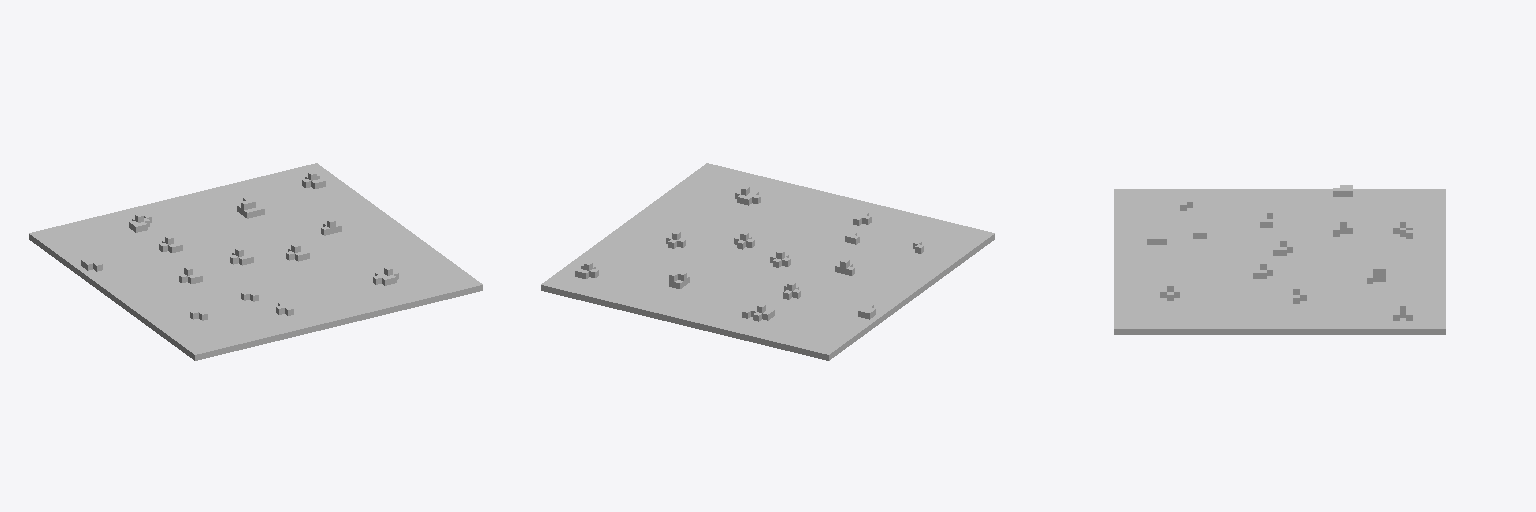
Rendered from Ground tile.obj.
3 renders of one model, left to right at view 1: azimuth 30°, elevation 25°; view 2: azimuth 150°, elevation 25°; view 3: azimuth 270°, elevation 25°, orthographic.
Visible parts, largest first — view 1: object 1; view 2: object 1; view 3: object 1.
Part boxes in pixels (left/top/right/bottom): object 1: left=29, top=163, right=482, bottom=360; object 1: left=541, top=163, right=994, bottom=360; object 1: left=1114, top=185, right=1445, bottom=334.
Bounding box in the file's own units: 5 × 0.3 × 5.